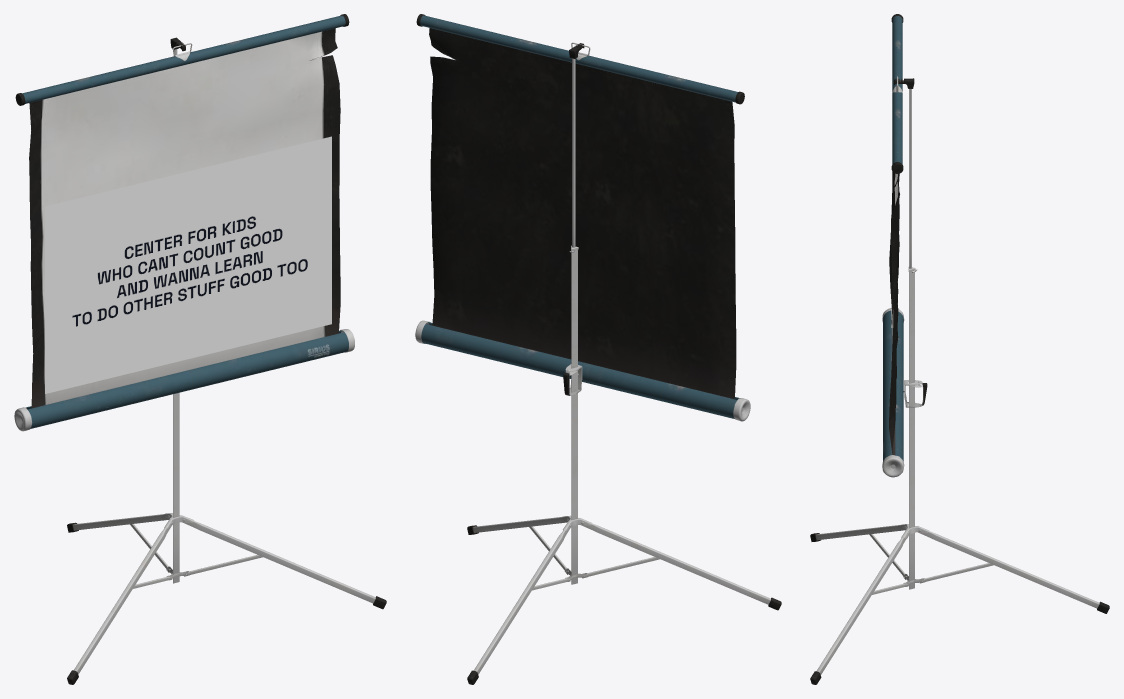
Rendered from nyb_zoo_screen.glb.
3 renders of one model, left to right at view 1: azimuth 30°, elevation 25°; view 2: azimuth 150°, elevation 25°; view 3: azimuth 270°, elevation 25°, orthographic. The views are drawn at different scales.
Visible parts, largest first — view 1: projector_screen, stk_lbl_a131270370.png; view 2: projector_screen; view 3: projector_screen.
Part boxes in pixels (x1=…): projector_screen: x1=14, y1=14, x2=386, y2=684; stk_lbl_a131270370.png: x1=45, y1=136, x2=331, y2=393; projector_screen: x1=415, y1=14, x2=781, y2=684; projector_screen: x1=810, y1=14, x2=1109, y2=684.
Bounding box in the file's own units: 1.09 × 1.8 × 0.9158.
Materials: 3 (3 with a texture image).
